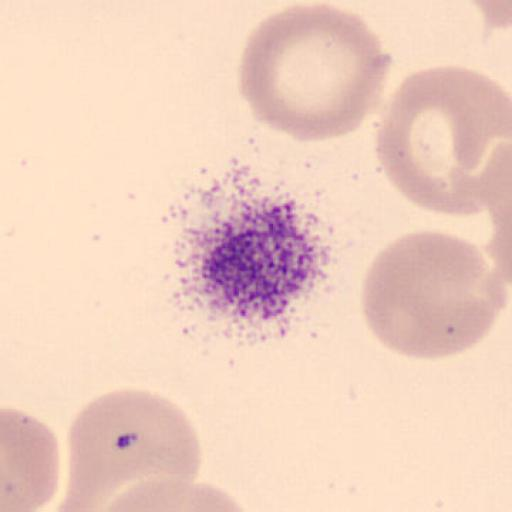Platelet: (171, 184, 352, 348)
RBC: (238, 2, 393, 142), (374, 64, 508, 217), (361, 229, 504, 362), (65, 385, 202, 512), (65, 388, 154, 509), (2, 405, 61, 512), (95, 478, 255, 512), (486, 146, 512, 307), (137, 479, 259, 512), (93, 478, 196, 512), (466, 0, 512, 37)
